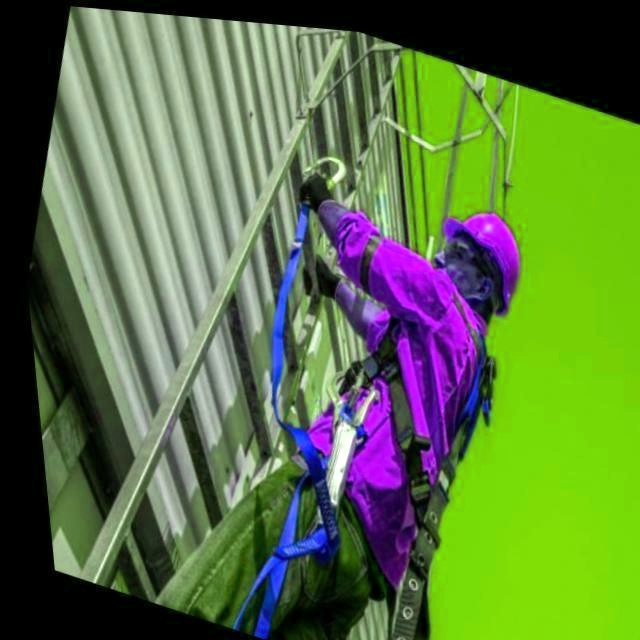safety belt: (295, 216, 502, 602)
